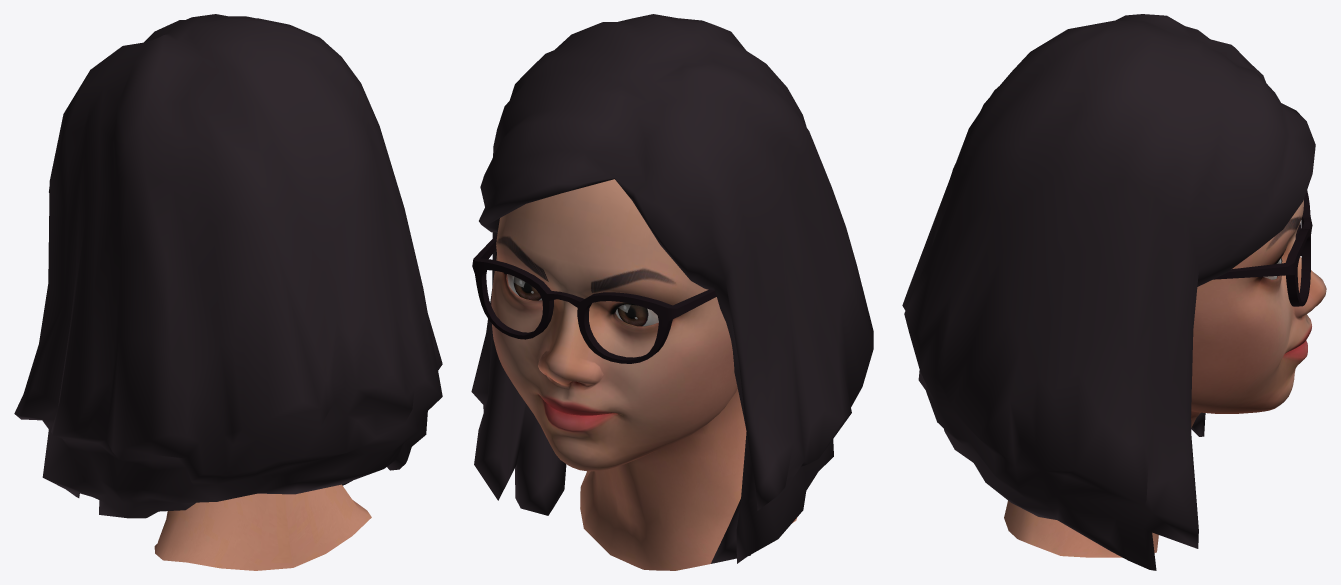
File: aa_head.glb
The picture shows the model from 3 angles, left to right: view 1: azimuth 30°, elevation 25°; view 2: azimuth 150°, elevation 25°; view 3: azimuth 270°, elevation 25°; orthographic projection. The views are drawn at different scales.
Visible parts, largest first — view 1: EyeLeft; view 2: EyeLeft; view 3: EyeLeft.
Boxes of the visible parts, bbox=[...] form: EyeLeft: bbox=[14, 14, 442, 570]; EyeLeft: bbox=[471, 14, 873, 570]; EyeLeft: bbox=[902, 14, 1326, 570].
Size of the model in its own units: 0.4689 by 0.6644 by 0.4973.
Materials: 4 (4 with a texture image).
